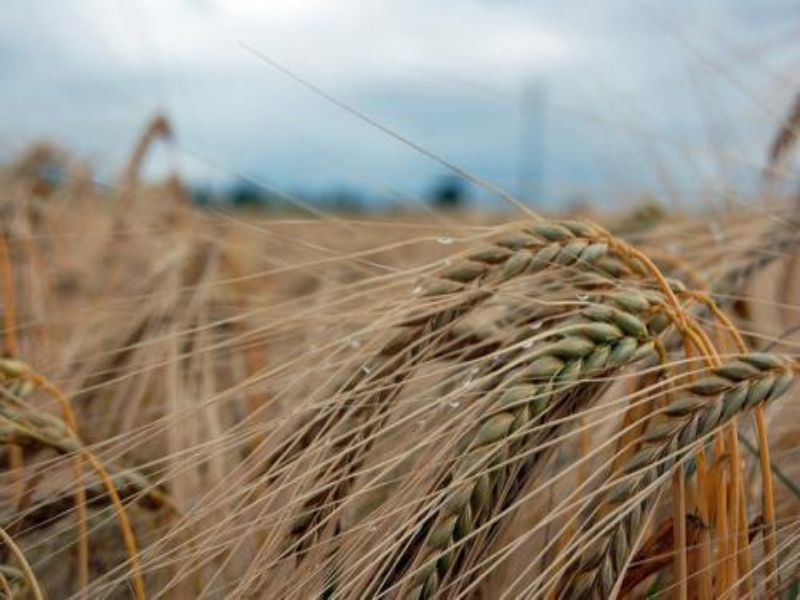wheat: (280, 212, 786, 523), (392, 268, 712, 596), (559, 338, 799, 598)
